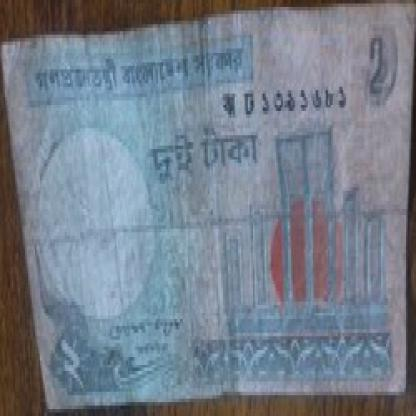two taka: (46, 333, 100, 398), (358, 35, 398, 100)
